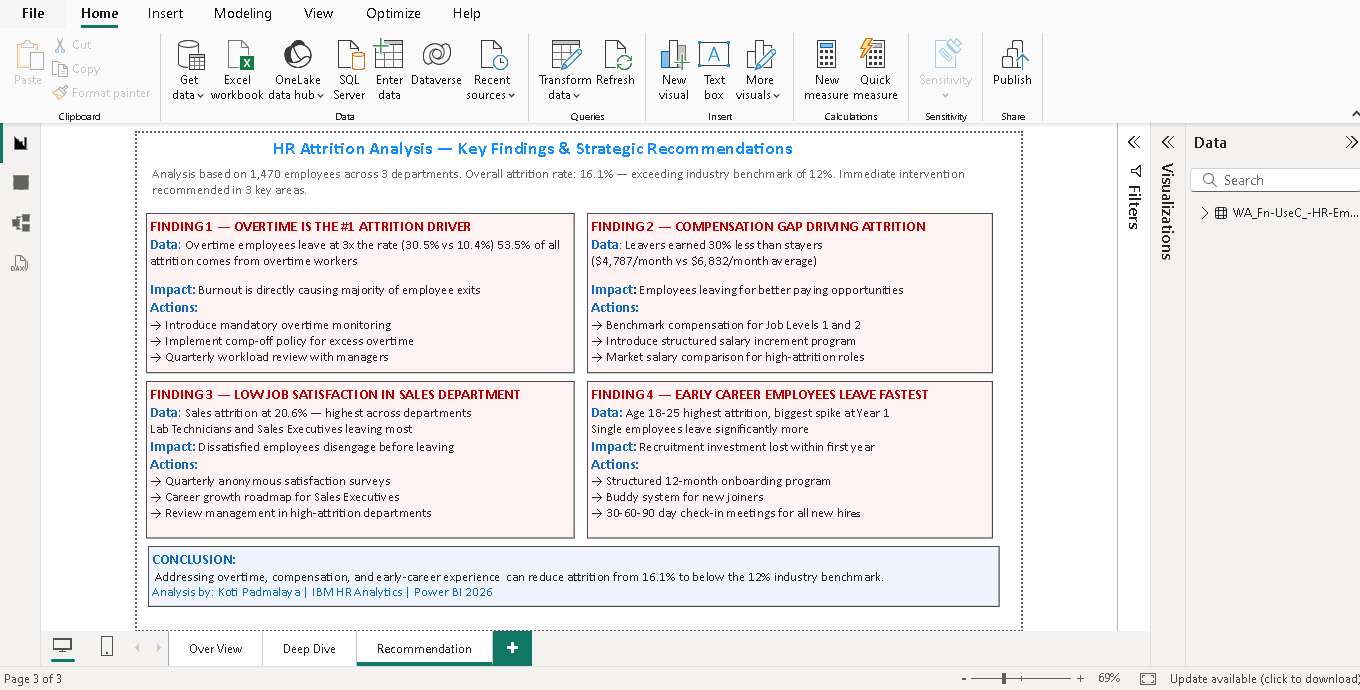

The page's visual inventory and layout, read from the dashboard file:
{"tool":"powerbi","page":{"name":"Recommendation","canvas":[1280,720],"ordinal":2},"visuals":[{"type":"textbox","box":[193.2,0,797.9,42],"z":0},{"type":"textbox","box":[17.3,41.8,1244.2,60.5],"z":1000},{"type":"textbox","box":[13,116.6,620.6,231.8],"z":2000},{"type":"textbox","box":[652.3,116.6,587.5,231.8],"z":3000},{"type":"textbox","box":[13,360,620.6,227.5],"z":4000},{"type":"textbox","box":[652.3,360,587.5,227.5],"z":5000},{"type":"textbox","box":[15.8,599,1234.1,87.8],"z":6000}]}

Visuals, with their boxes on the page's 1280x720 design canvas (x1, y1, x2, y2). These are canvas units, not pixel positions in the 1360x690 screenshot, which may show the page scaled, cropped or inside an application window:
textbox: <bbox>193, 0, 991, 42</bbox>
textbox: <bbox>17, 42, 1262, 102</bbox>
textbox: <bbox>13, 117, 634, 348</bbox>
textbox: <bbox>652, 117, 1240, 348</bbox>
textbox: <bbox>13, 360, 634, 588</bbox>
textbox: <bbox>652, 360, 1240, 588</bbox>
textbox: <bbox>16, 599, 1250, 687</bbox>
